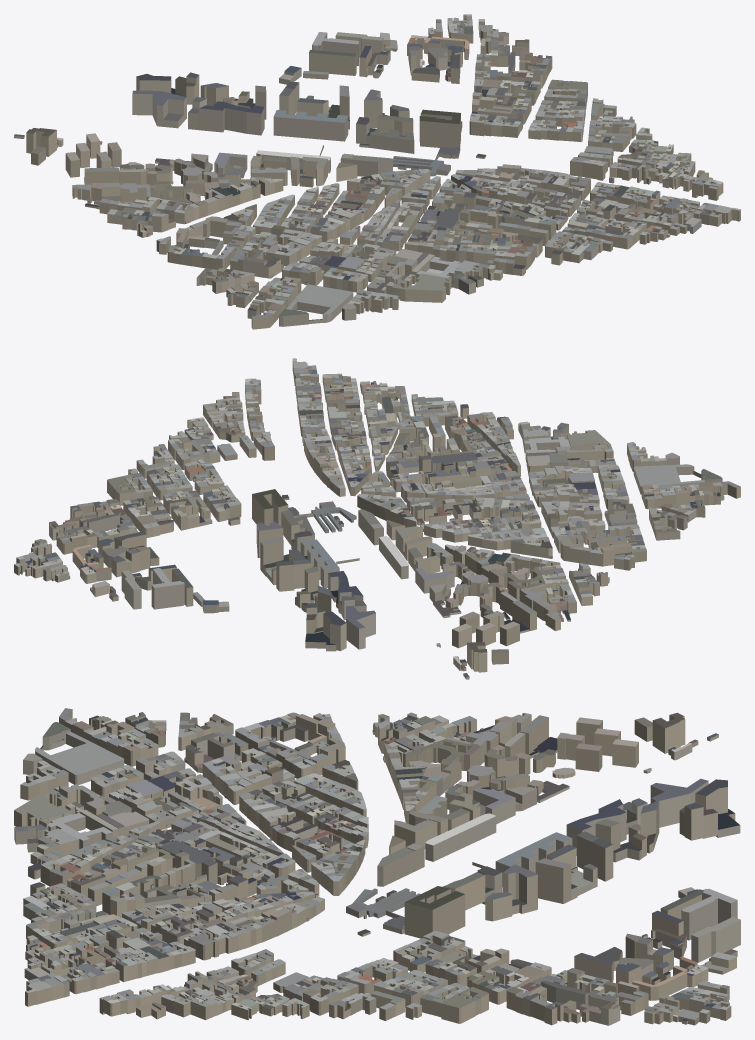
3 renders of one model, top to bottom at view 1: azimuth 30°, elevation 25°; view 2: azimuth 150°, elevation 25°; view 3: azimuth 270°, elevation 25°, orthographic. The views are drawn at different scales.
Visible parts, largest first — view 1: tuile; view 2: tuile; view 3: tuile.
Boxes of the visible parts, left/top/right/bottom form: tuile: left=14, top=14, right=740, bottom=329; tuile: left=14, top=358, right=740, bottom=679; tuile: left=14, top=708, right=740, bottom=1025.
Size of the model in its own units: 1033 by 68.67 by 1044.
